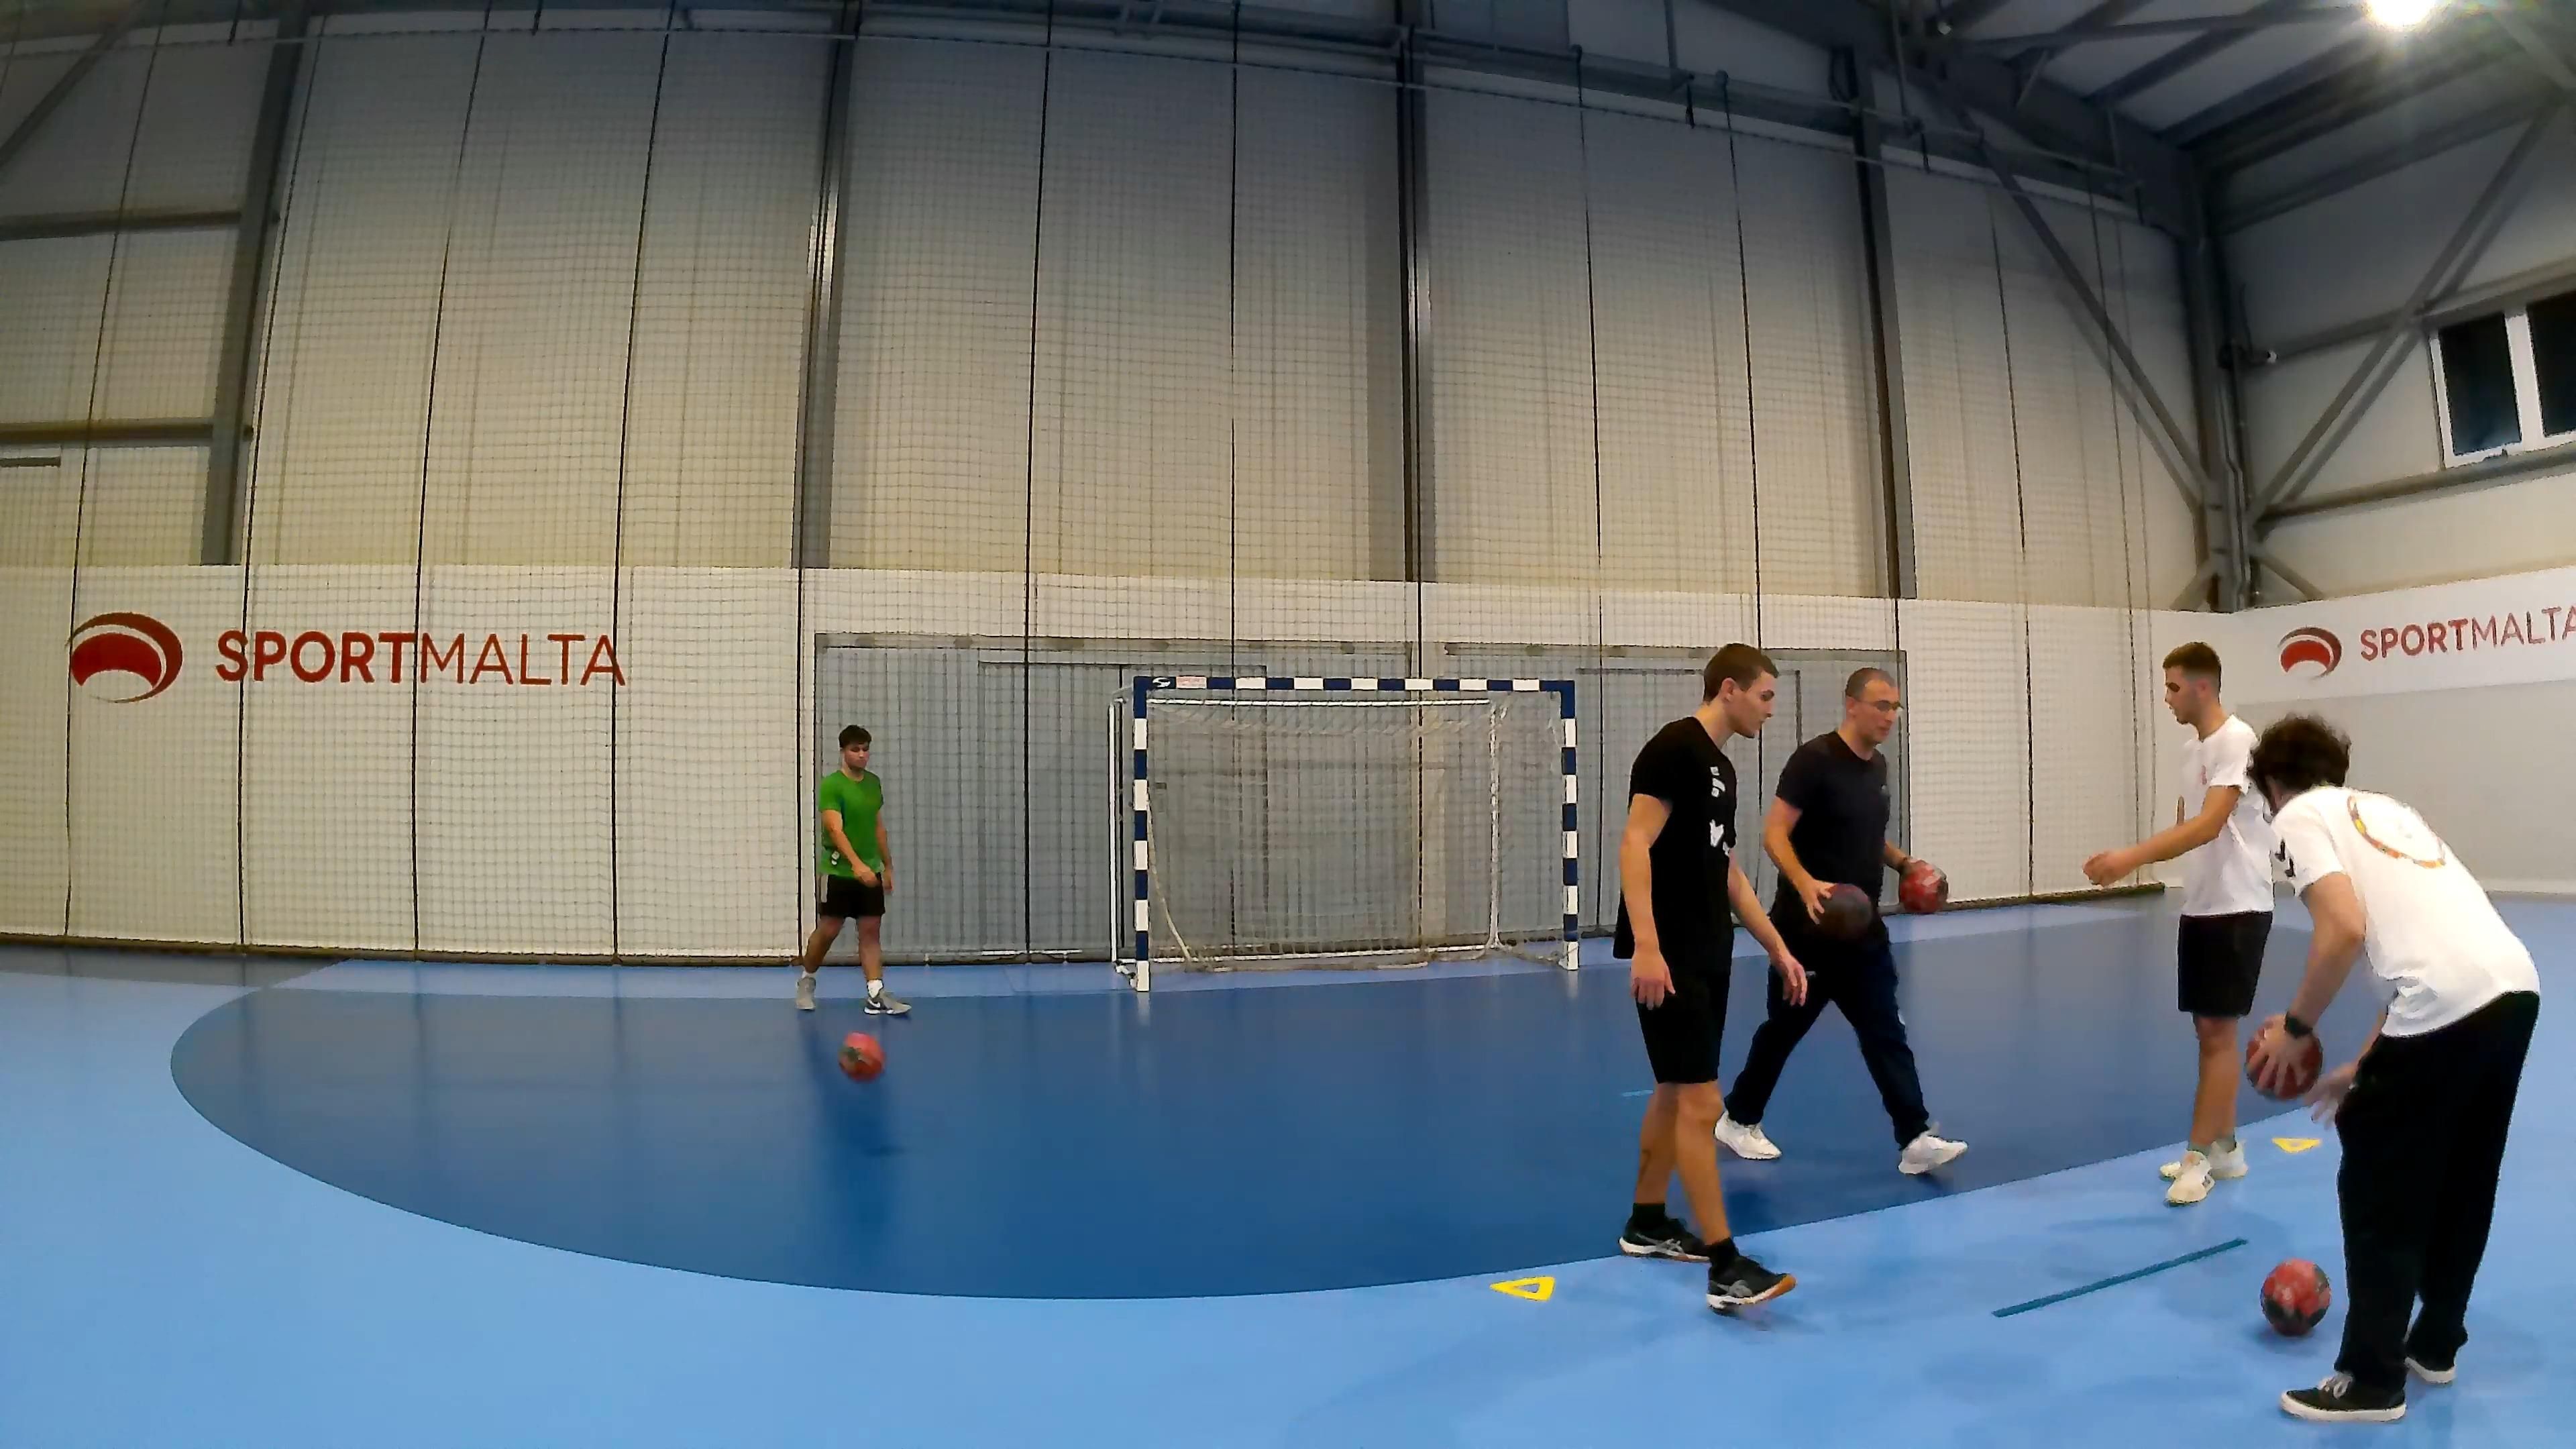handball: (2243, 1021, 2323, 1100), (2259, 1256, 2332, 1336), (1812, 881, 1874, 939), (1898, 860, 1948, 913), (837, 1030, 885, 1081)
